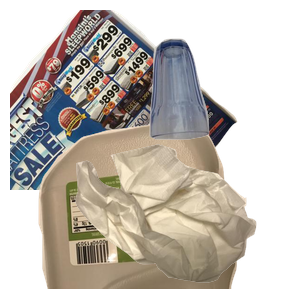glass: (147, 36, 300, 168)
paper: (10, 10, 240, 190)
plastic: (36, 120, 265, 300)
trash: (73, 142, 300, 300)
